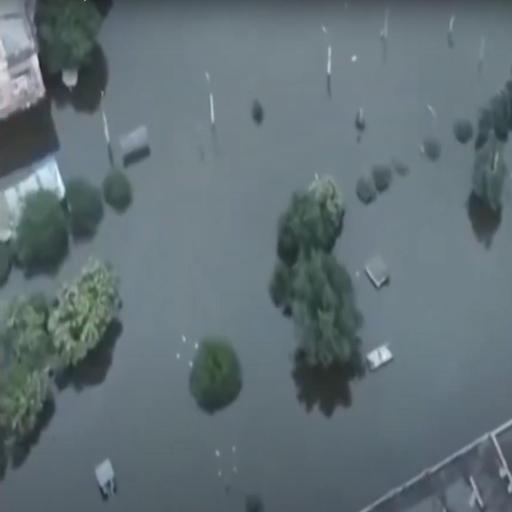flood: (0, 1, 512, 325), (177, 181, 512, 511), (0, 322, 239, 511), (0, 79, 110, 189), (124, 275, 237, 337)
house: (0, 0, 51, 121), (0, 157, 70, 245), (362, 246, 396, 296), (94, 456, 118, 500)
